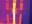Hotspot: (13, 3, 15, 24)
